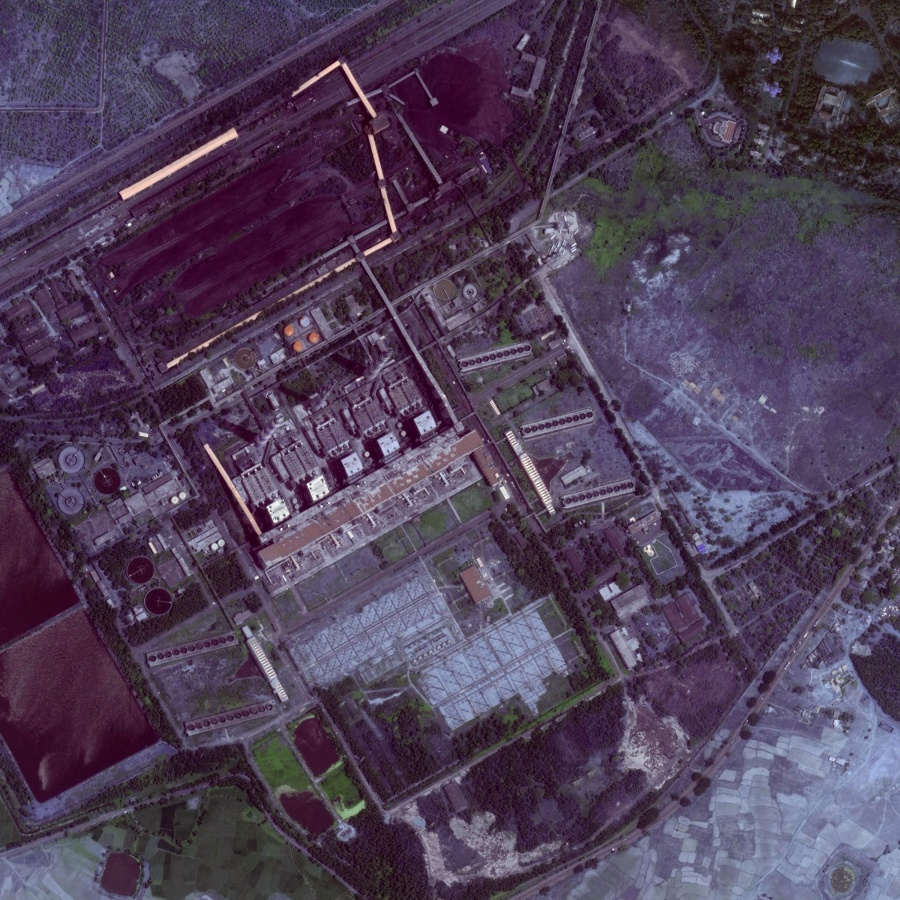PowerPlant: (84, 10, 508, 387)
